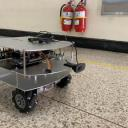cart: (0, 35, 77, 114)
